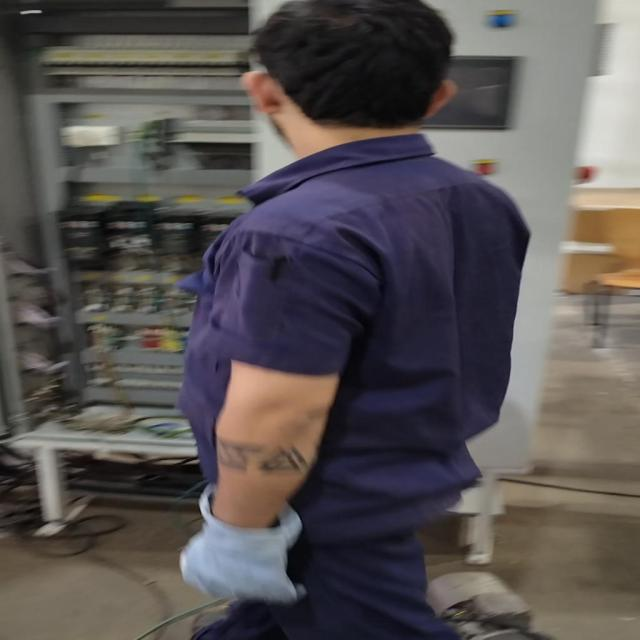Gloves-Detection: (177, 482, 330, 608)
